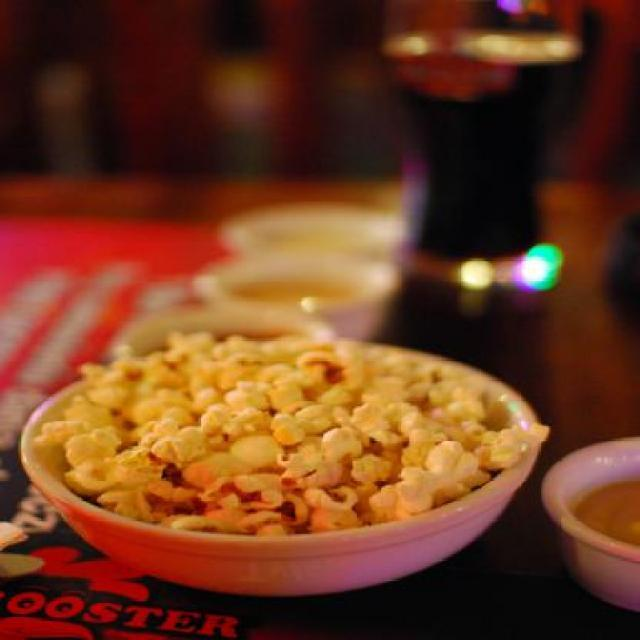Popcorn: (28, 340, 518, 534)
